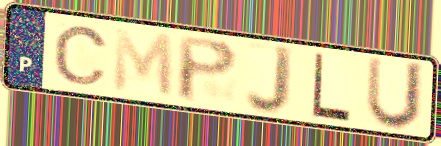C: (51, 24, 110, 87)
J: (243, 43, 297, 117)
L: (309, 51, 353, 125)
M: (111, 25, 176, 101)
P: (176, 34, 241, 106)
U: (363, 54, 428, 134)
